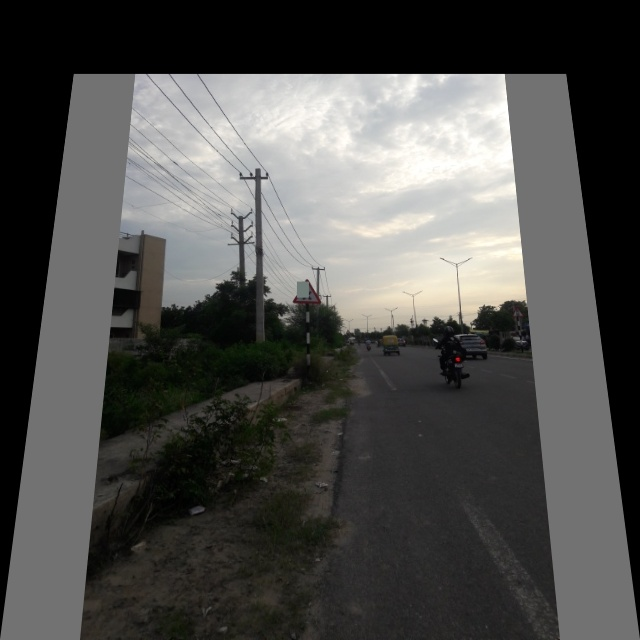Cross_Road: (291, 273, 323, 306)
